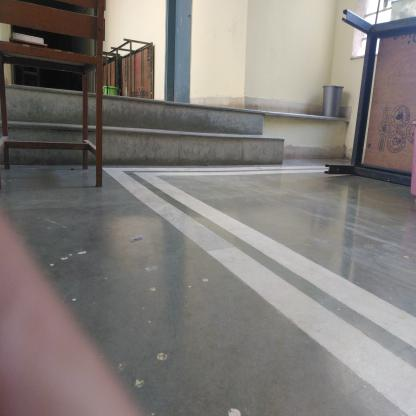stairs: (107, 106, 254, 168)
